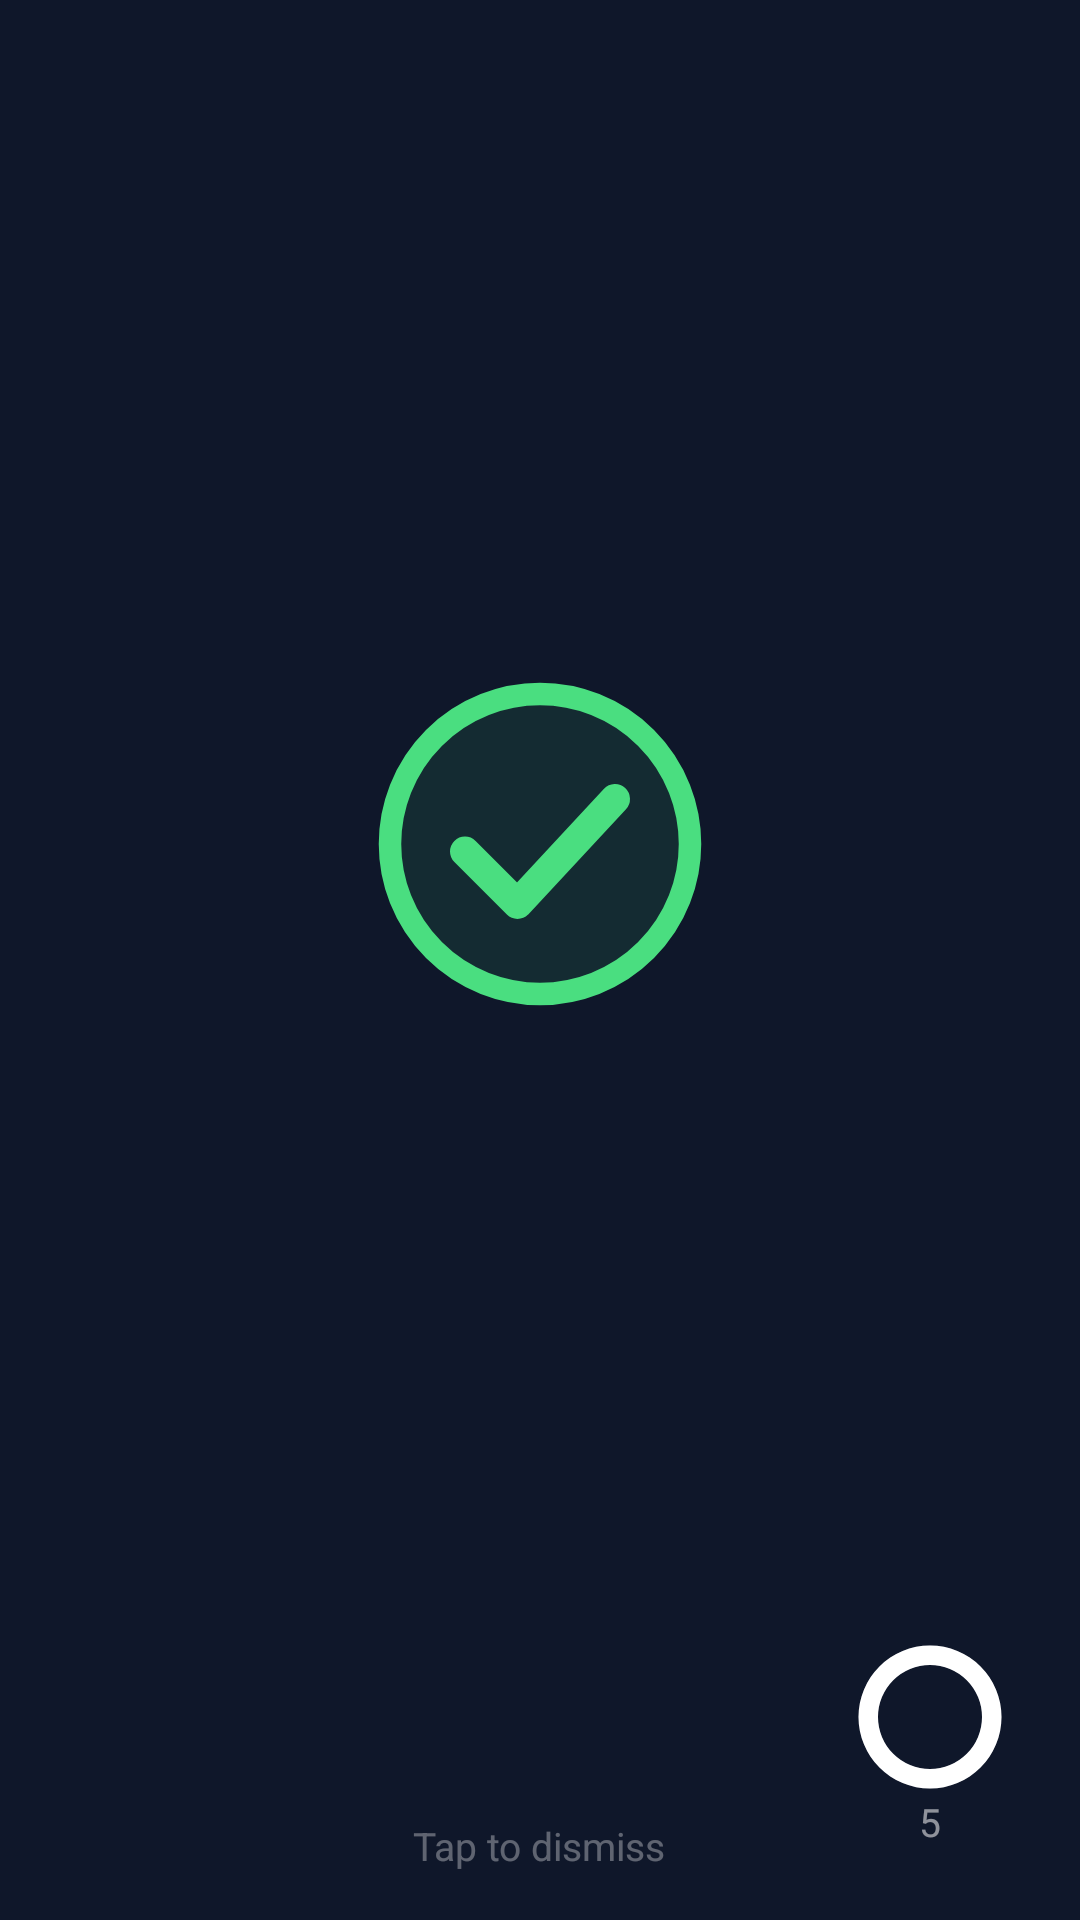

Screen size 1080×1920. Icon name, then its box in pixels as bbox(x1, y1, x2, y2):
checkmark circle: bbox(378, 682, 702, 1006)
